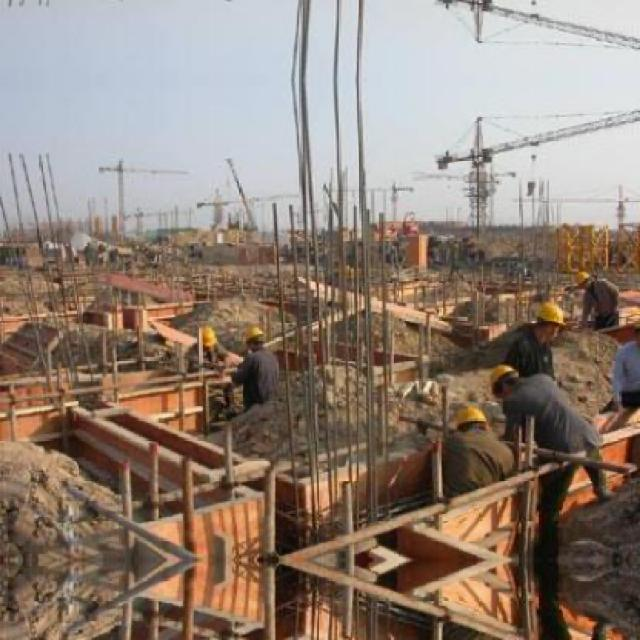helmet: (526, 297, 568, 343), (483, 360, 529, 400), (451, 403, 492, 445), (243, 320, 271, 352), (194, 322, 220, 351), (572, 268, 594, 292)
